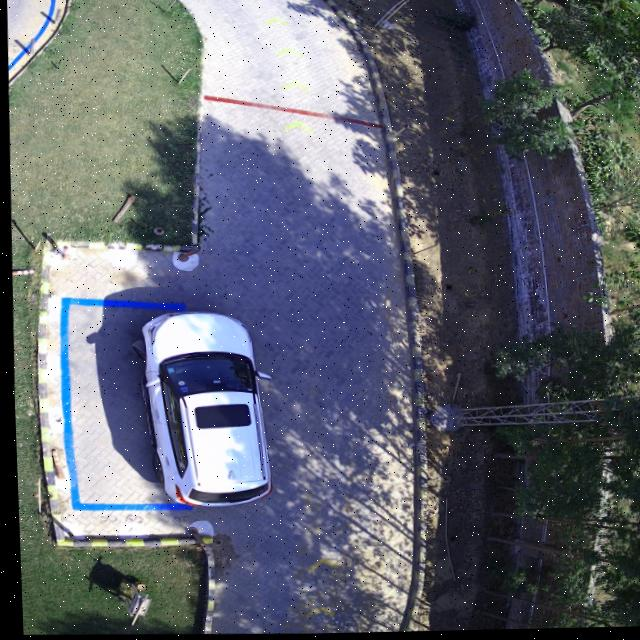car: (130, 312, 266, 507)
